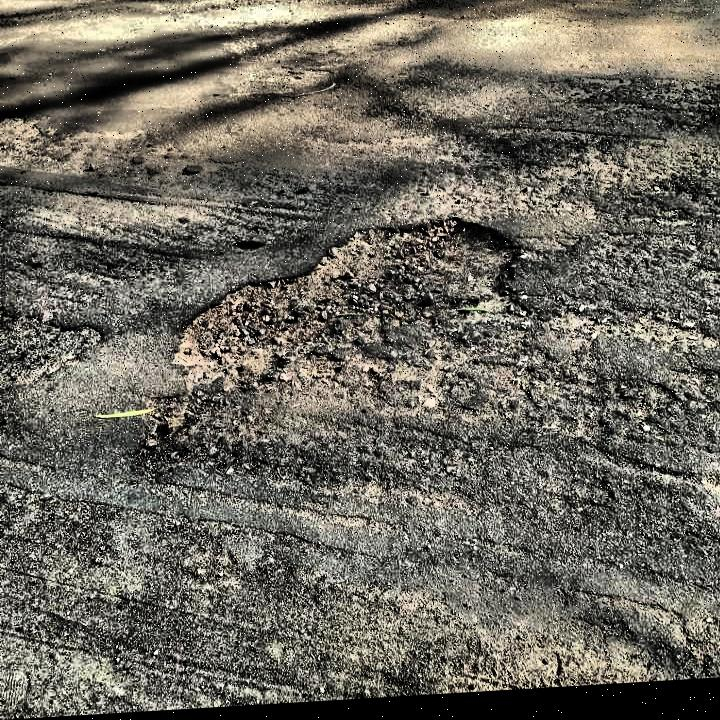pothole: (167, 213, 530, 394)
